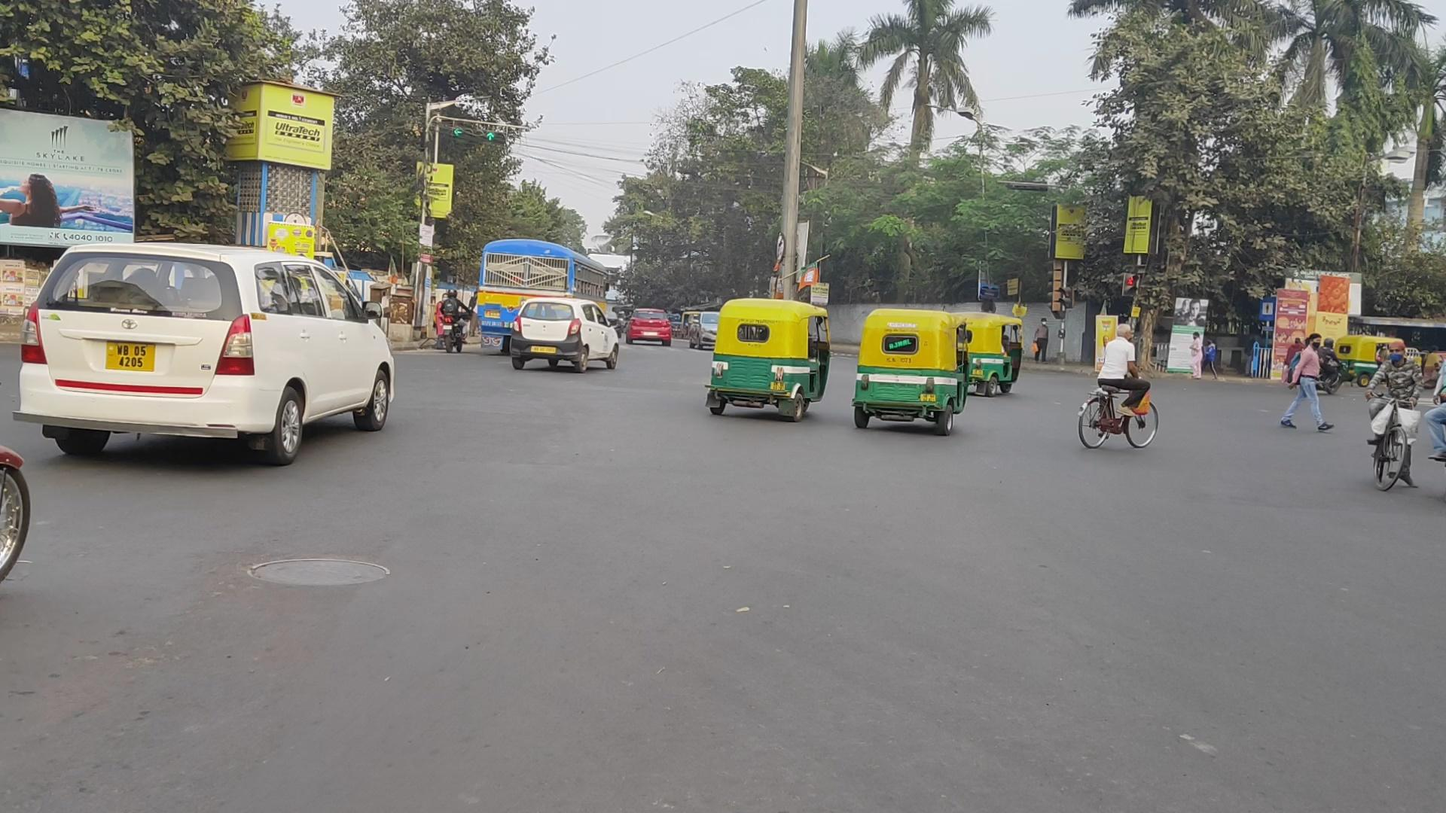Auto: (705, 298, 831, 422), (852, 309, 969, 436), (953, 312, 1023, 395), (1329, 333, 1405, 388)
Bus: (473, 239, 612, 355)
bike: (1078, 324, 1159, 450), (1366, 341, 1426, 492), (1302, 337, 1347, 393), (436, 288, 472, 355)
car: (14, 242, 395, 467), (510, 298, 620, 373), (688, 311, 732, 351), (626, 308, 672, 346)
